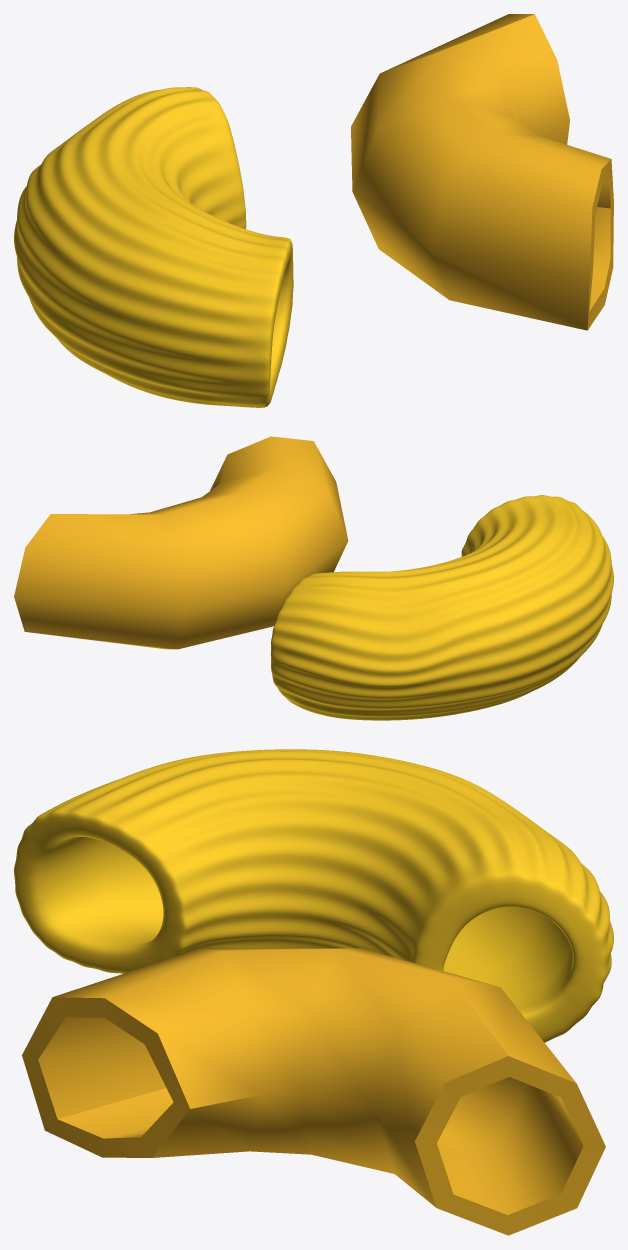
File: single_cooked_macaroni (1).glb
3 renders of one model, top to bottom at view 1: azimuth 30°, elevation 25°; view 2: azimuth 150°, elevation 25°; view 3: azimuth 270°, elevation 25°, orthographic. The views are drawn at different scales.
Visible parts, largest first — view 1: macaroni_HP, macaroni_LP; view 2: macaroni_HP, macaroni_LP; view 3: macaroni_LP, macaroni_HP.
Part boxes in pixels (x1,y1,x2,y2): macaroni_HP: (14,87,293,407); macaroni_LP: (351,14,613,330); macaroni_HP: (270,495,613,720); macaroni_LP: (14,436,348,649); macaroni_LP: (22,948,605,1235); macaroni_HP: (14,749,613,1042).
Size of the model in its own units: 0.0214 by 0.00611 by 0.0163.
